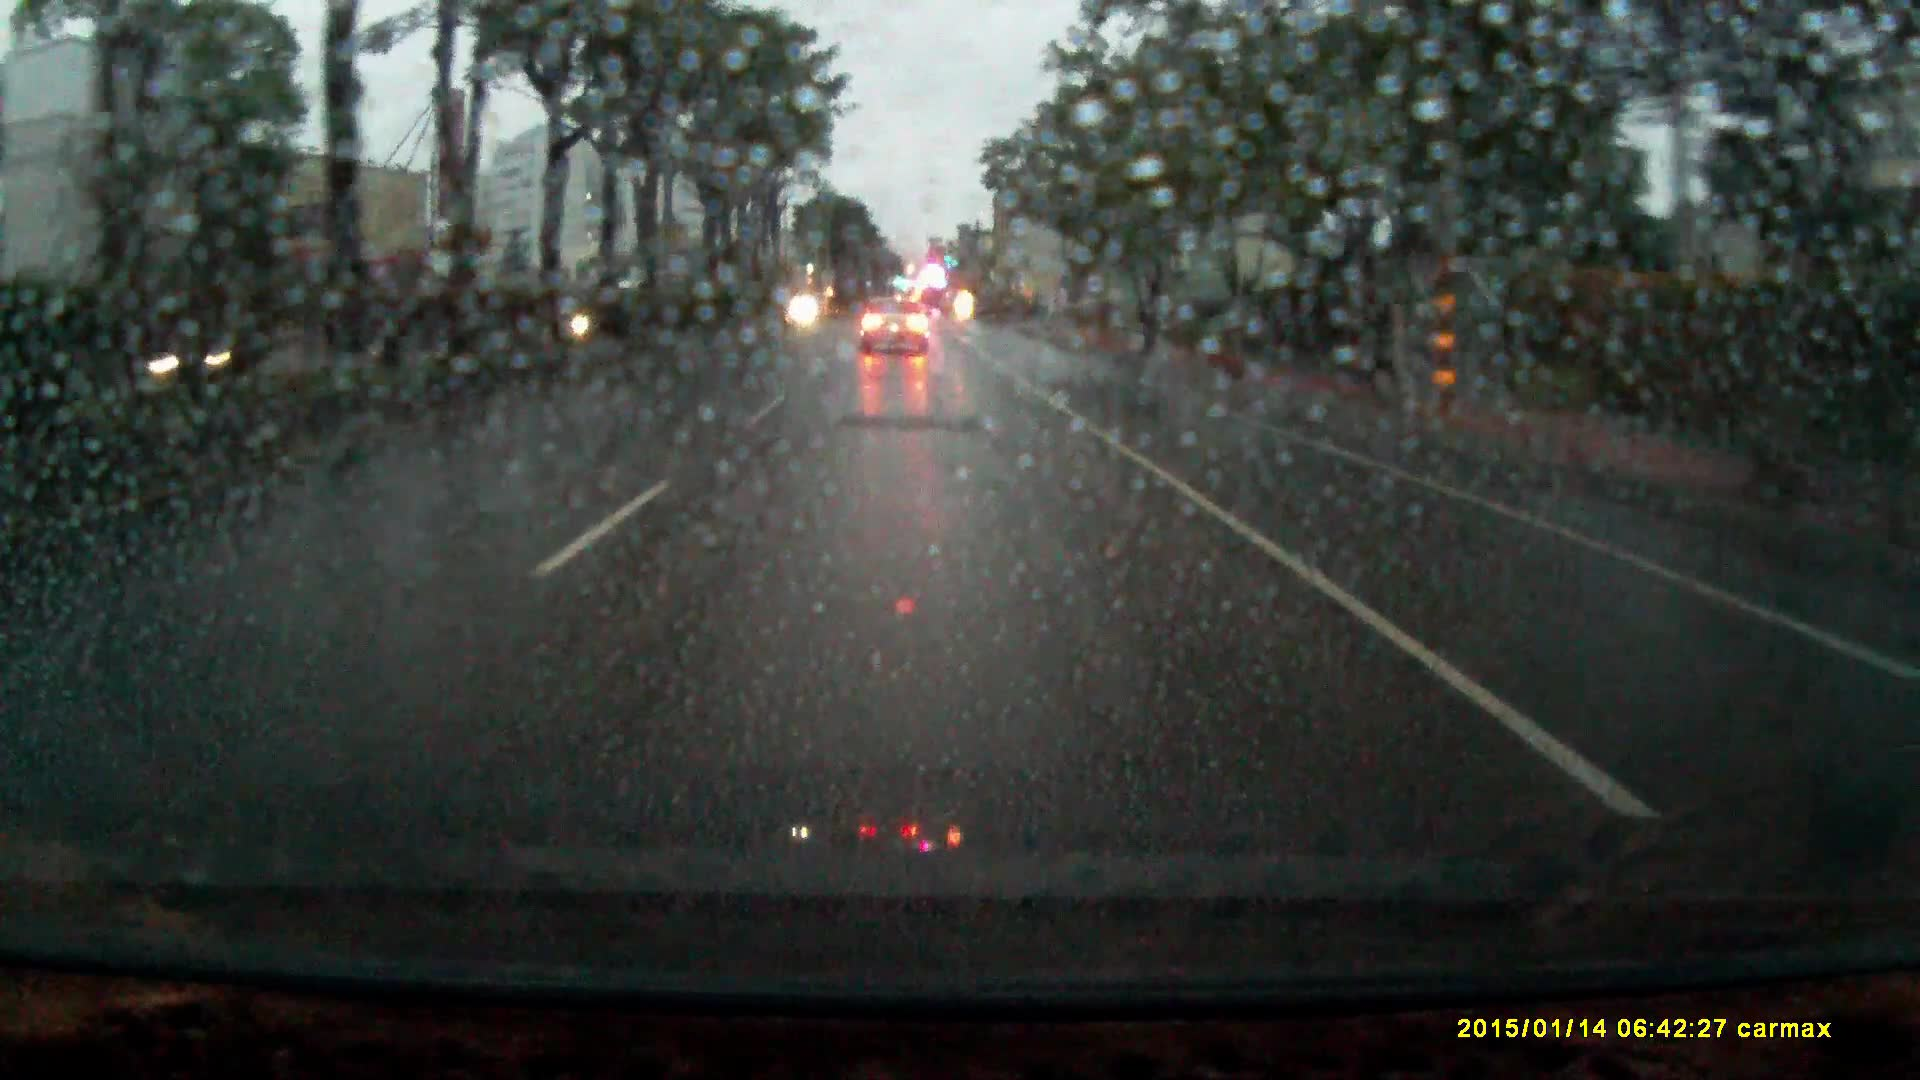vehicle: (860, 284, 930, 344)
